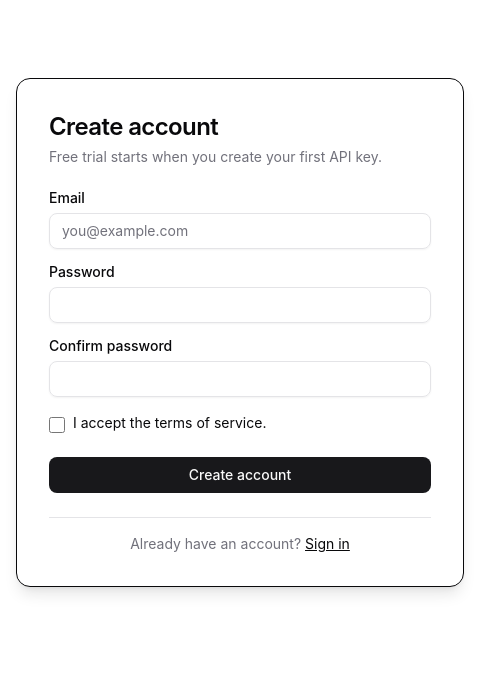
Test: RegisterPage › 422 surfaces generic registration-failed error
Type "bob@example.com" into the field labelled "Email" at (240, 230), box [49,212,431,248]
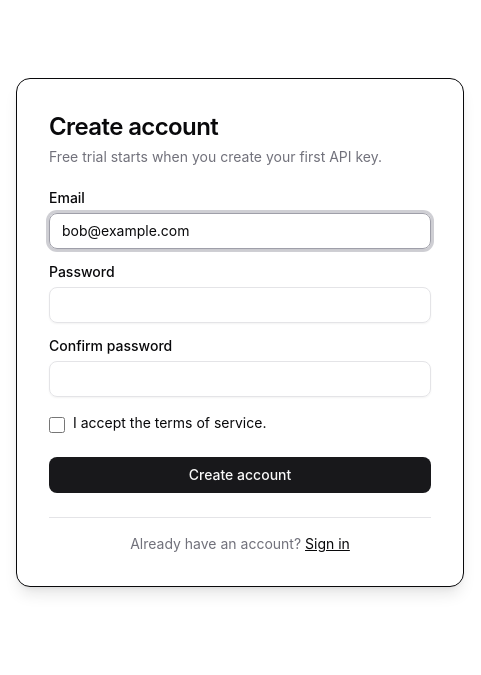
Type "Password1!" into the password field labelled "Password" at (240, 304), box [49,286,431,322]
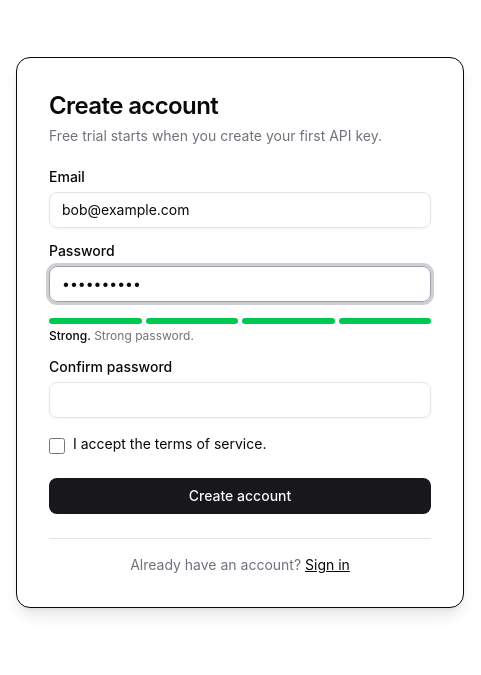
Type "Password1!" into the password field labelled "Confirm password" at (240, 400), box [49,382,431,418]
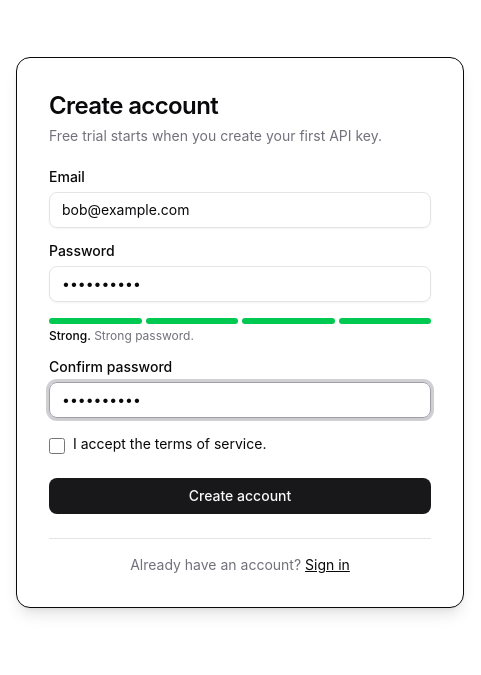
Click the checkbox at (57, 446), box [49,438,65,454]
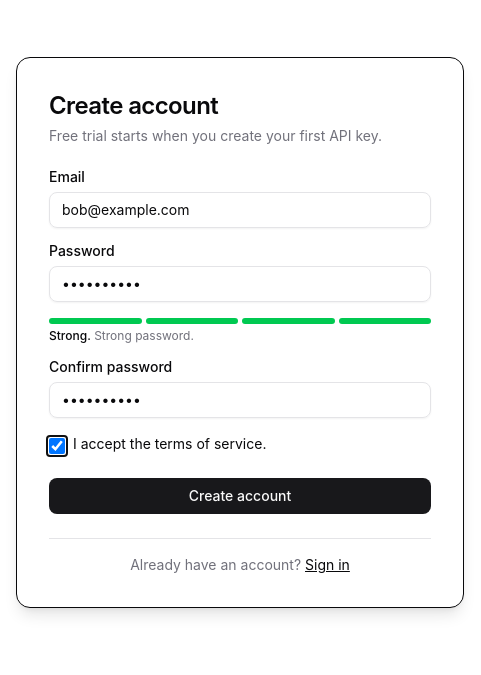
Click the button "Create account" at (240, 496), box [49,478,431,514]
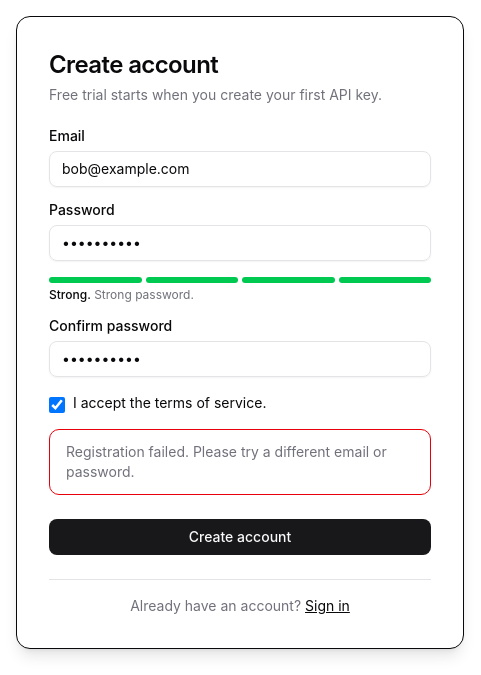
expect the text "Registration failed." is shown: met, box [66,442,387,480]
